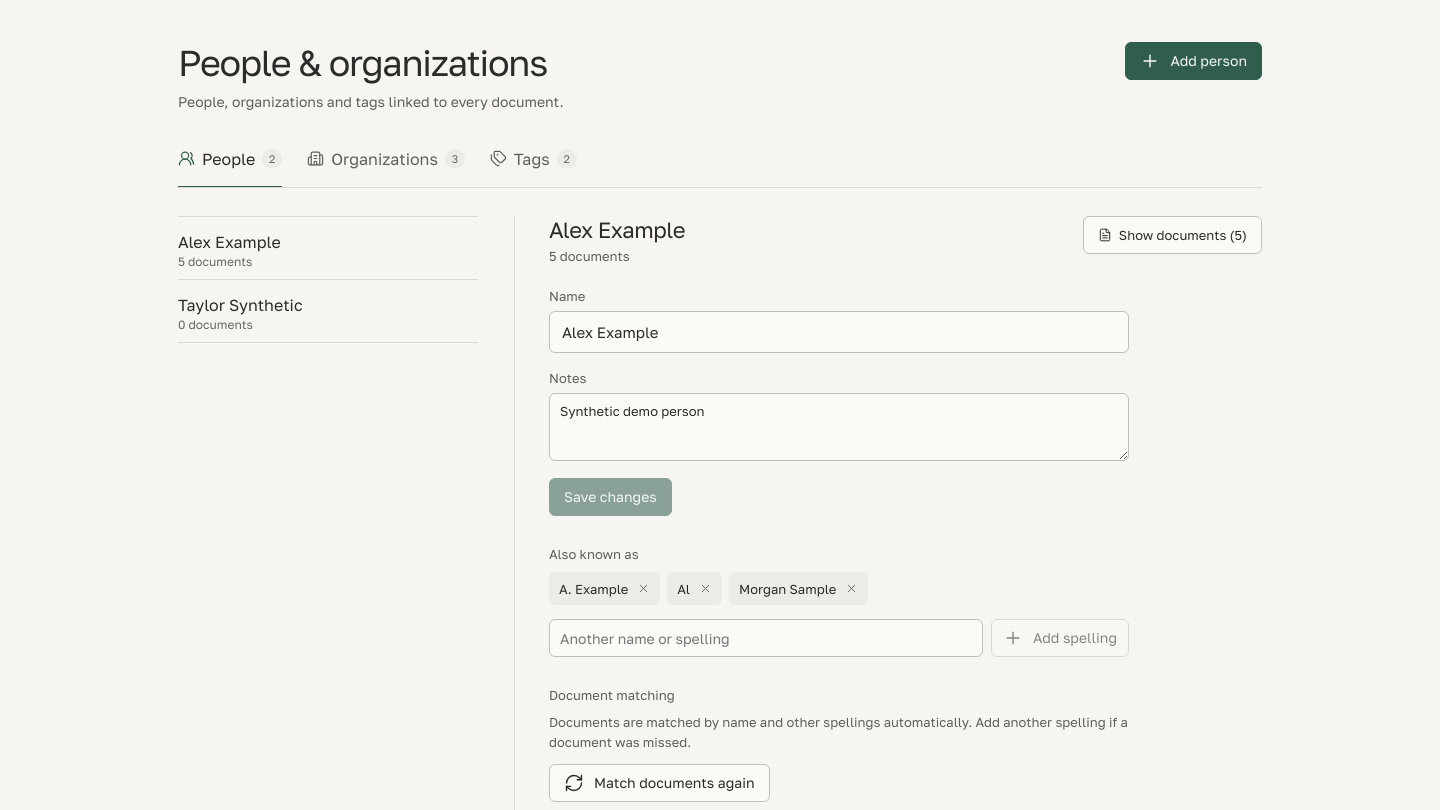
it: TaxonomyPage › keeps one create form inside the detail panel and closes a clean form on cancel
Expected: the element with class "taxonomy-list" is shown, [178,216,478,343]
Expected: the form with class "taxonomy-properties" is shown, [549,288,1129,516]
Click the button "Add person": [1194, 61] box [1125,42,1262,80]
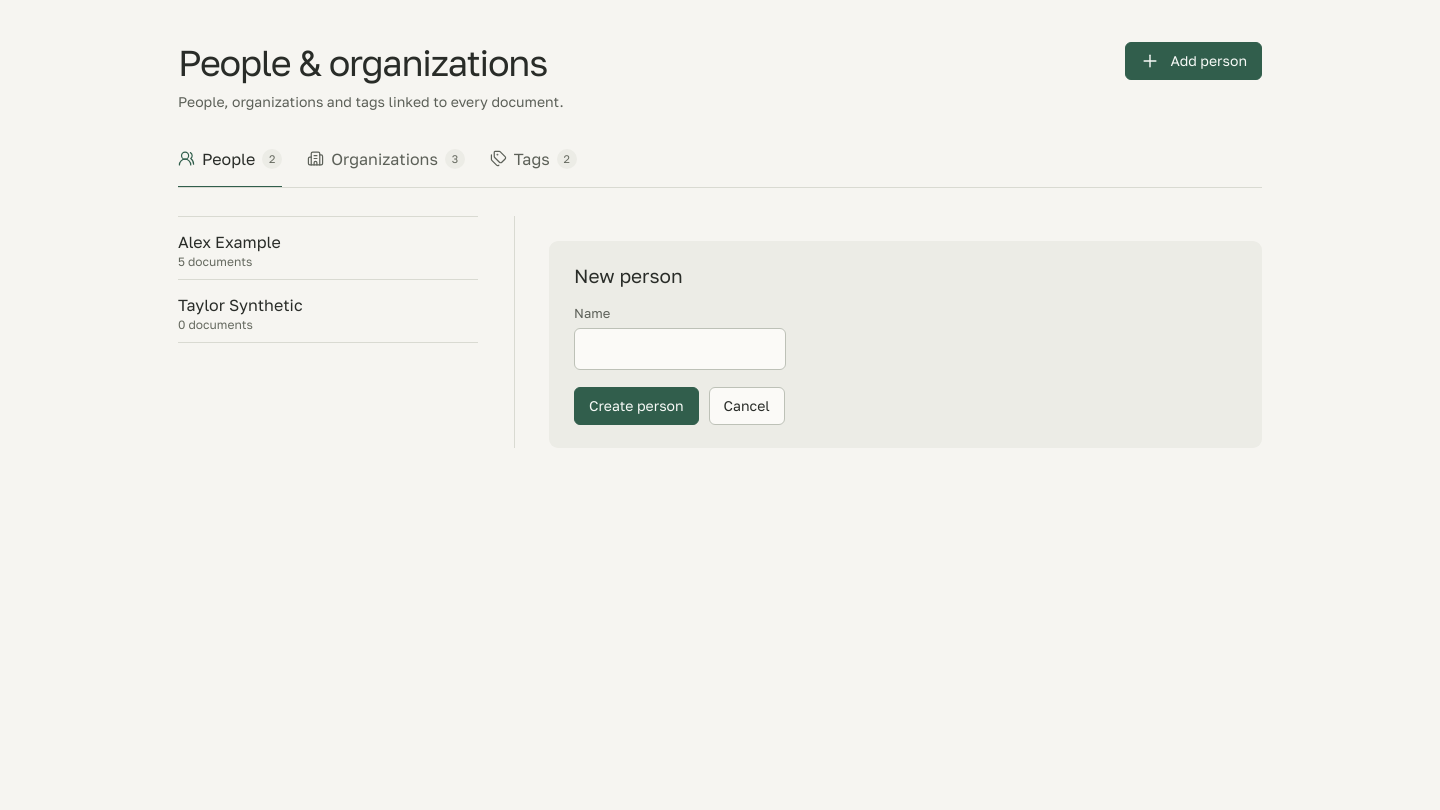
Now the number of forms with class "taxonomy-create" is 1, box [549,241,1262,448]
Click the button "Cancel": [747, 406] box [709,387,785,425]
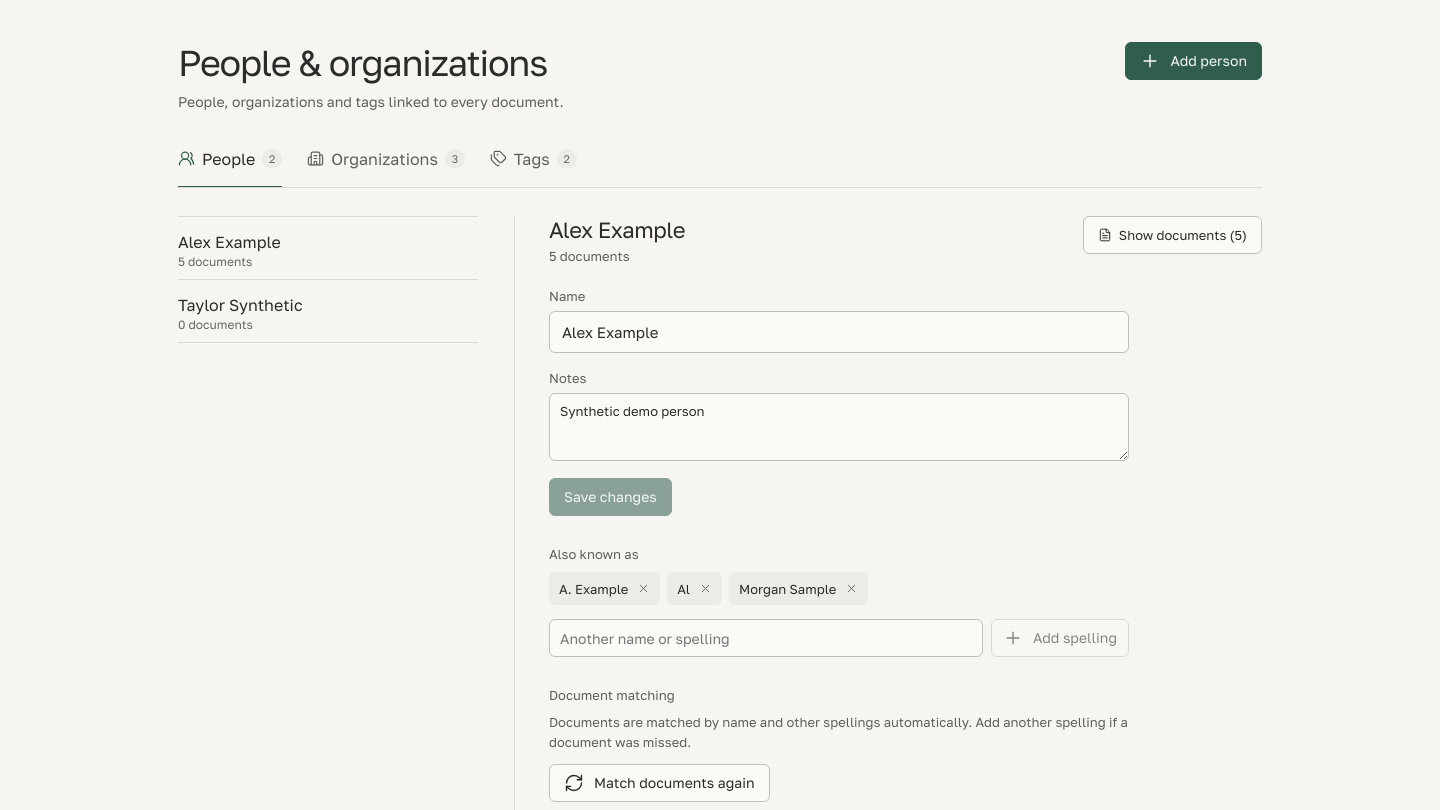
Now the form with class "taxonomy-create" is gone
Now the form with class "taxonomy-properties" is shown, box [549,288,1129,516]
